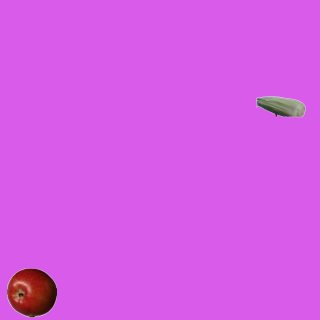Apple Braeburn: (6, 267, 56, 317)
Corn Husk: (255, 81, 305, 131)
